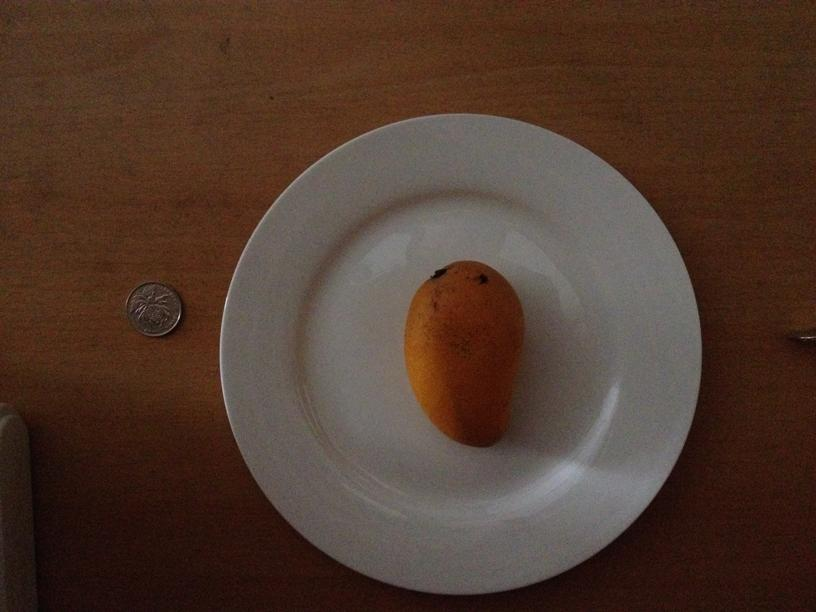coin: (126, 282, 181, 337)
mango: (409, 261, 524, 444)
